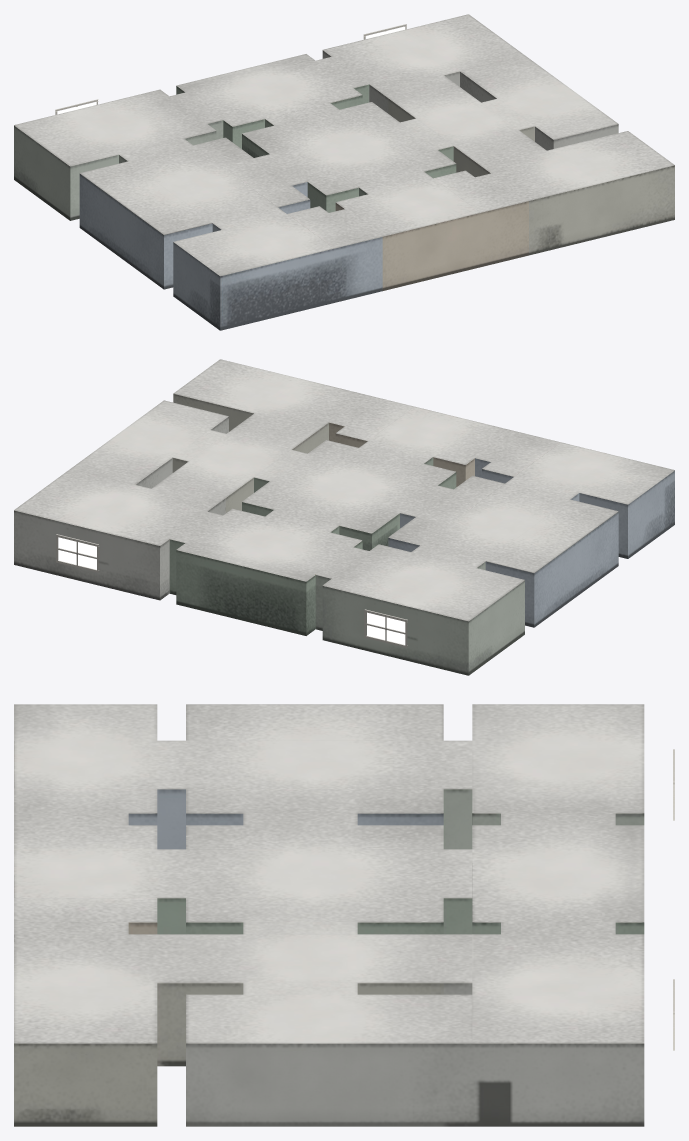
File: annex_f2.glb
The picture shows the model from 3 angles, top to bottom: view 1: azimuth 30°, elevation 25°; view 2: azimuth 150°, elevation 25°; view 3: azimuth 270°, elevation 25°; orthographic projection. The views are drawn at different scales.
Parts seen in each view (by area): view 1: ceil, shell; view 2: ceil, shell; view 3: ceil, shell.
Part boxes in pixels (x1,y1,x2,y2): ceil: (14, 14, 674, 275); shell: (14, 24, 674, 330); ceil: (14, 359, 674, 620); shell: (14, 393, 674, 675); ceil: (14, 704, 644, 1043); shell: (14, 749, 674, 1126).
Bounding box in the file's own units: 700 × 80.5 × 577.
12 materials, 12 textured.
